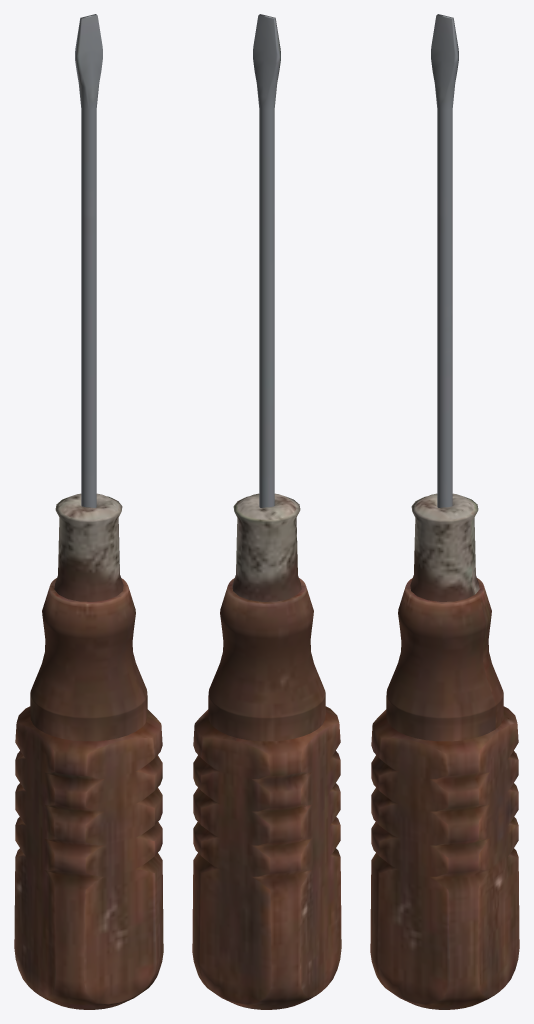
The model's file is flathead_screwdriver.l.21224ced.glb.
3 views of the same model, side by side, from view 1: azimuth 30°, elevation 25°; view 2: azimuth 150°, elevation 25°; view 3: azimuth 330°, elevation 25° (orthographic).
Visible parts, largest first — view 1: flathead_screwdriver; view 2: flathead_screwdriver; view 3: flathead_screwdriver.
Boxes of the visible parts, x1,y1,x2,y2 form: flathead_screwdriver: (14,14,163,1009); flathead_screwdriver: (192,14,341,1009); flathead_screwdriver: (370,14,519,1009).
Size of the model in its own units: 0.03 by 0.2613 by 0.03.
1 material, 1 textured.
